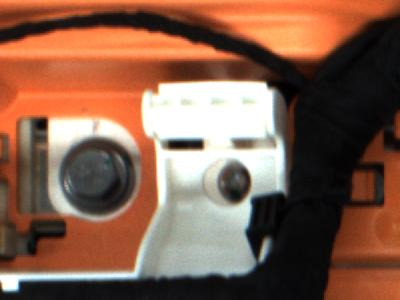nut_b: (59, 139, 136, 220)
